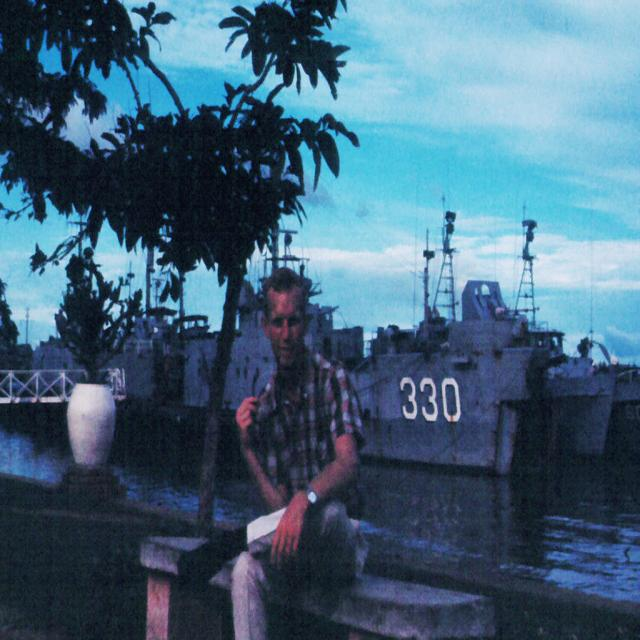Boat: (32, 162, 567, 482), (547, 346, 615, 464), (612, 355, 640, 458)
